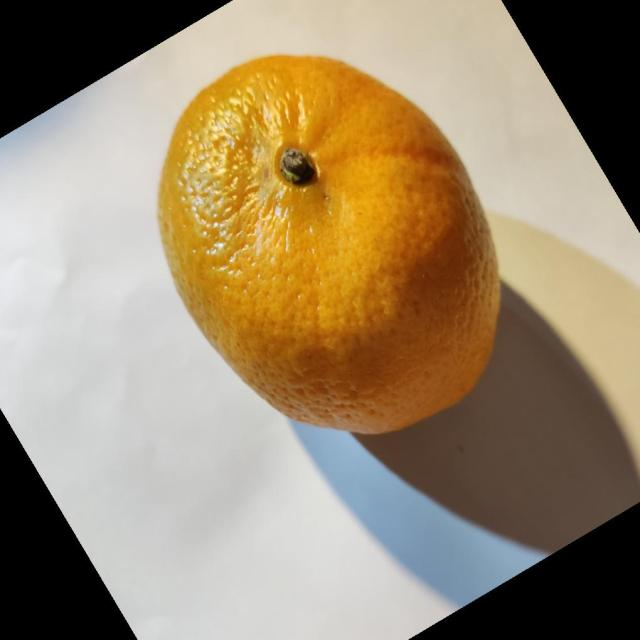fresh orange: (156, 52, 501, 436)
